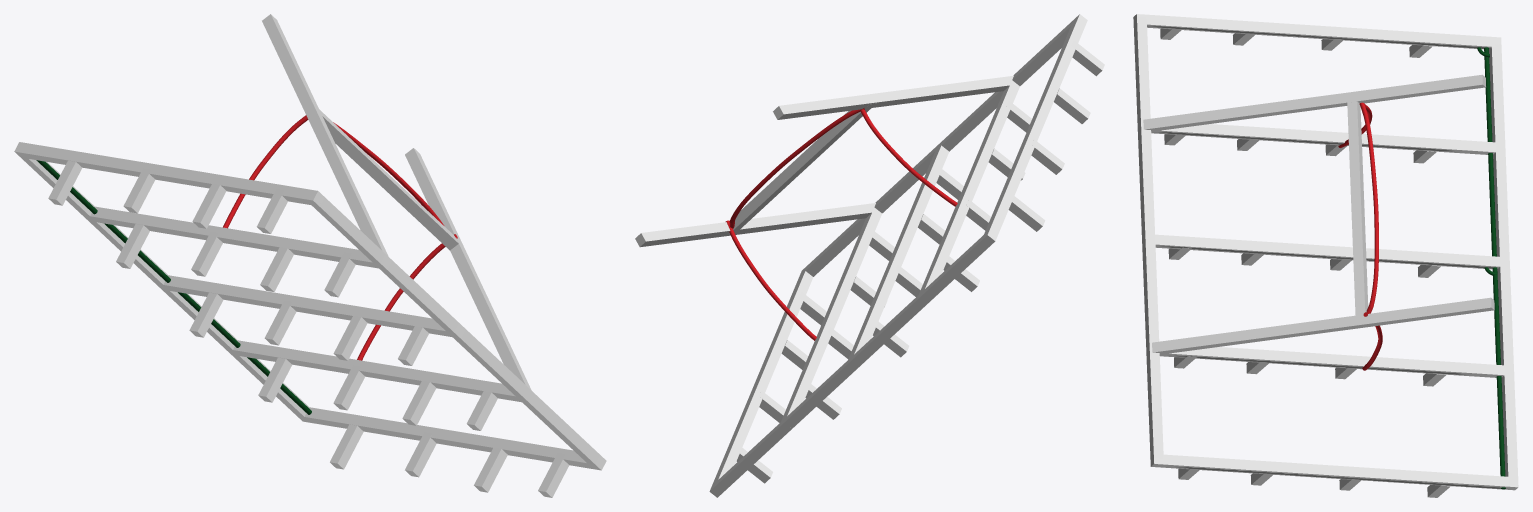
Rendered from rack.obj.
3 renders of one model, left to right at view 1: azimuth 30°, elevation 25°; view 2: azimuth 150°, elevation 25°; view 3: azimuth 270°, elevation 25°, orthographic. The views are drawn at different scales.
Parts seen in each view (by area): view 1: Object.34, Object.33, Object.31, Object.36, Object.35, Object.18, Object.20, Object.19, Object.26, Object.32, Object.6, Object.29 (+22 smaller); view 2: Object.26, Object.34, Object.20, Object.33, Object.19, Object.18, Object.31, Object.36, Object.35, Object.32, Object.5, Object.4 (+5 smaller); view 3: Object.34, Object.26, Object.36, Object.33, Object.19, Object.20, Object.31, Object.18, Object.35, Object.32, Object.6, Object.5.
Part boxes in pixels (left/top/right/bottom): Object.34: left=312, top=197, right=599, bottom=464; Object.33: left=14, top=142, right=324, bottom=206; Object.31: left=158, top=275, right=465, bottom=338; Object.36: left=297, top=407, right=606, bottom=470; Object.35: left=82, top=206, right=391, bottom=269; Object.18: left=225, top=340, right=529, bottom=403; Object.20: left=262, top=14, right=388, bottom=256; Object.19: left=405, top=148, right=531, bottom=389; Object.26: left=19, top=155, right=309, bottom=416; Object.32: left=319, top=109, right=458, bottom=250; Object.6: left=36, top=160, right=311, bottom=414; Object.29: left=333, top=315, right=367, bottom=360; Object.26: left=711, top=235, right=990, bottom=491; Object.34: left=803, top=16, right=1077, bottom=276; Object.20: left=773, top=75, right=1013, bottom=119; Object.33: left=983, top=14, right=1087, bottom=244; Object.19: left=635, top=203, right=875, bottom=247; Object.18: left=778, top=207, right=882, bottom=434; Object.31: left=846, top=145, right=948, bottom=372; Object.36: left=709, top=268, right=813, bottom=497; Object.35: left=919, top=80, right=1019, bottom=294; Object.32: left=728, top=103, right=876, bottom=234; Object.5: left=729, top=108, right=864, bottom=228; Object.4: left=725, top=220, right=816, bottom=340; Object.34: left=1133, top=16, right=1163, bottom=458; Object.26: left=1489, top=43, right=1518, bottom=485; Object.36: left=1150, top=454, right=1518, bottom=490; Object.33: left=1133, top=14, right=1501, bottom=49; Object.19: left=1152, top=297, right=1494, bottom=354; Object.20: left=1143, top=74, right=1485, bottom=131; Object.31: left=1142, top=234, right=1500, bottom=269; Object.18: left=1159, top=347, right=1514, bottom=377; Object.35: left=1137, top=120, right=1496, bottom=154; Object.32: left=1347, top=101, right=1368, bottom=315; Object.6: left=1484, top=47, right=1505, bottom=489; Object.5: left=1359, top=102, right=1378, bottom=313.
Bounding box in the file's own units: 335 × 346 × 298.
Materials: 8 (5 with a texture image).
